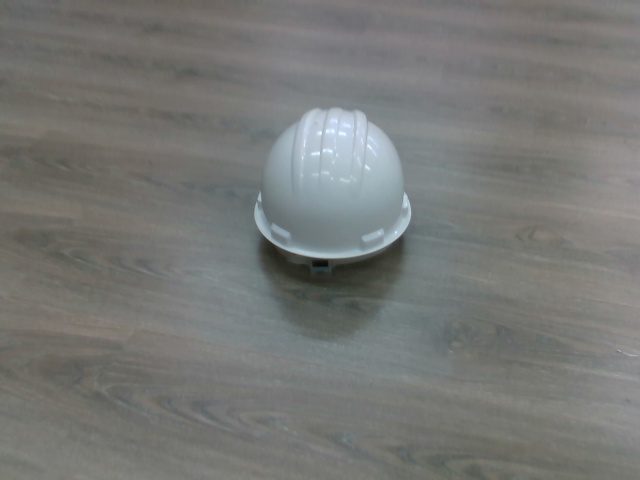helmet: (247, 102, 417, 274)
